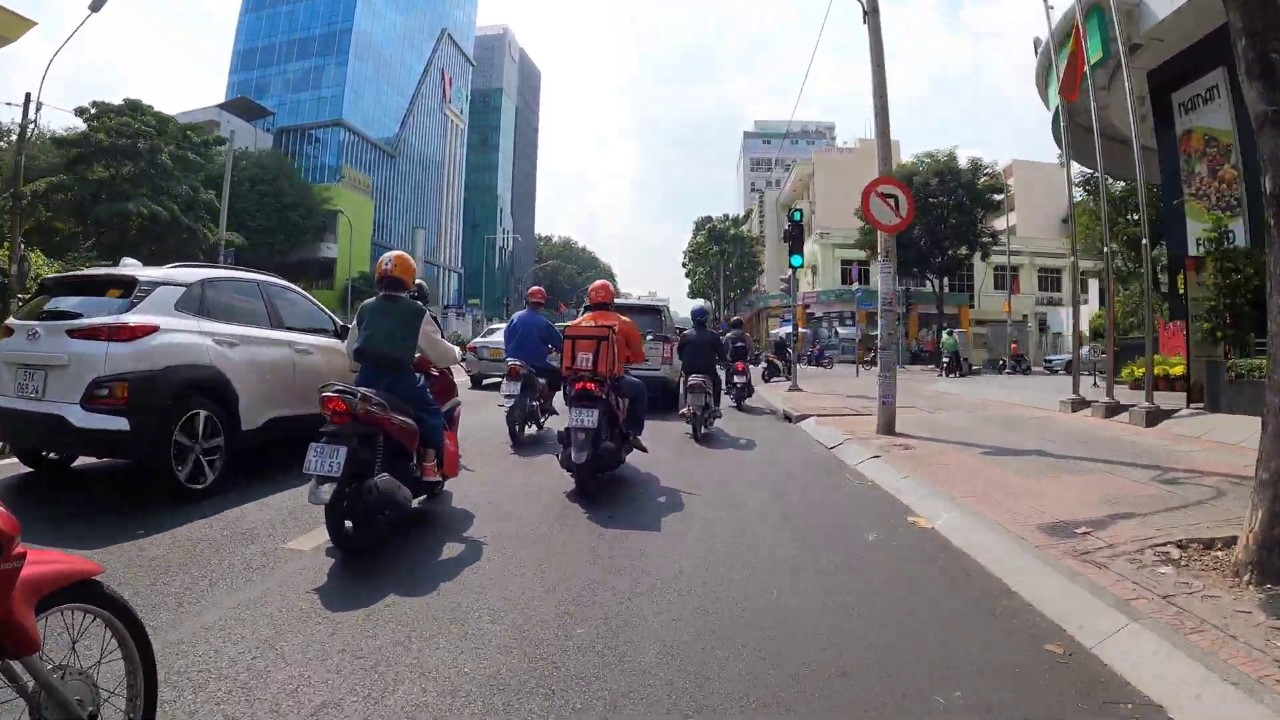cam_re_trai: (861, 175, 916, 234)
